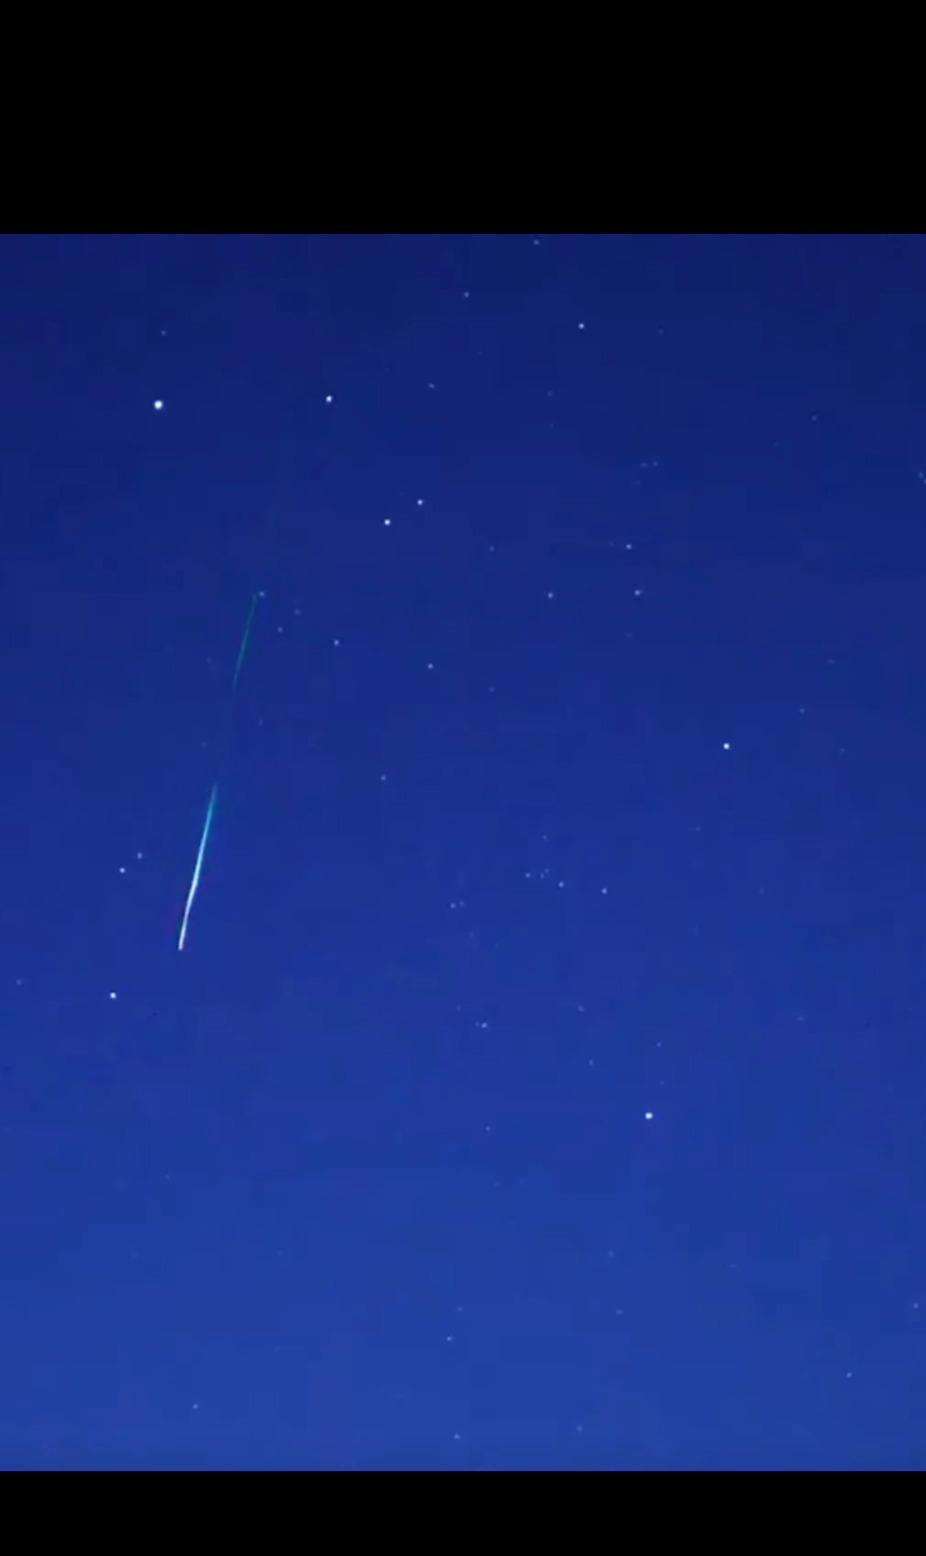meteorite: (153, 577, 292, 959)
